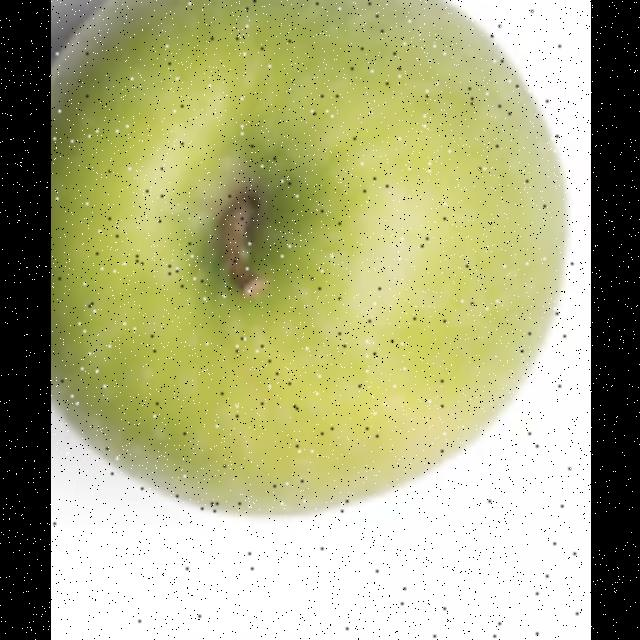Apel Segar: (50, 1, 590, 556)
